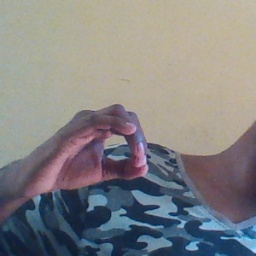O: (26, 95, 154, 201)
